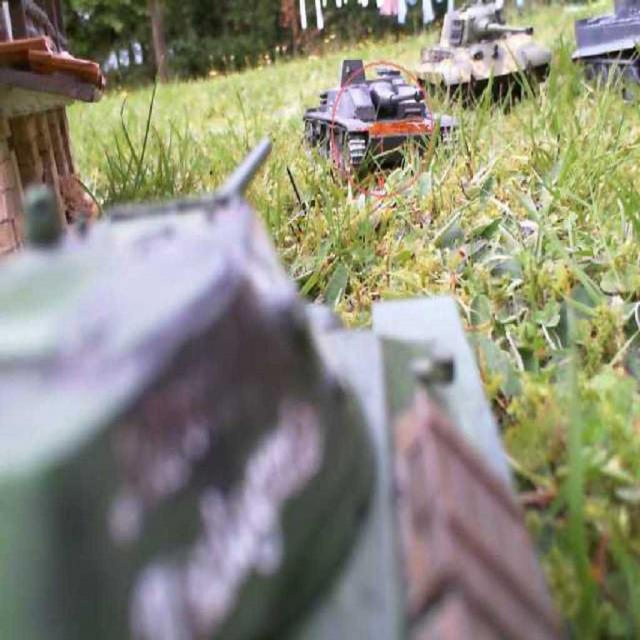tank: (0, 135, 569, 638), (302, 58, 459, 184), (413, 0, 551, 116)
